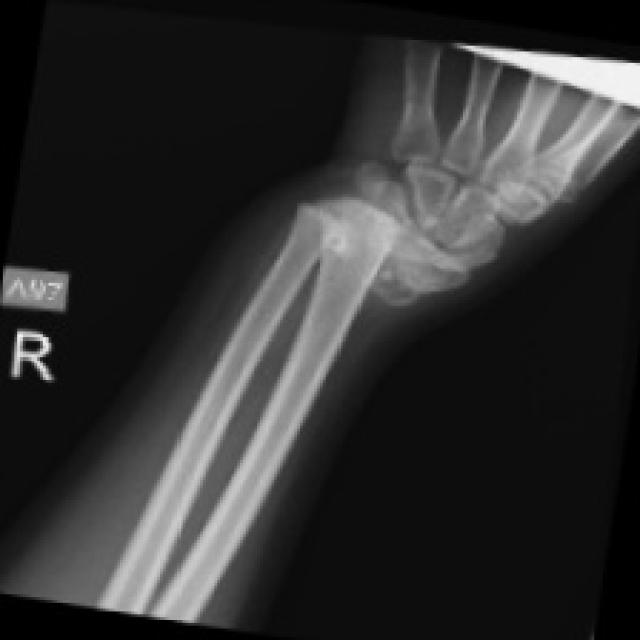fracture: (252, 142, 437, 301)
